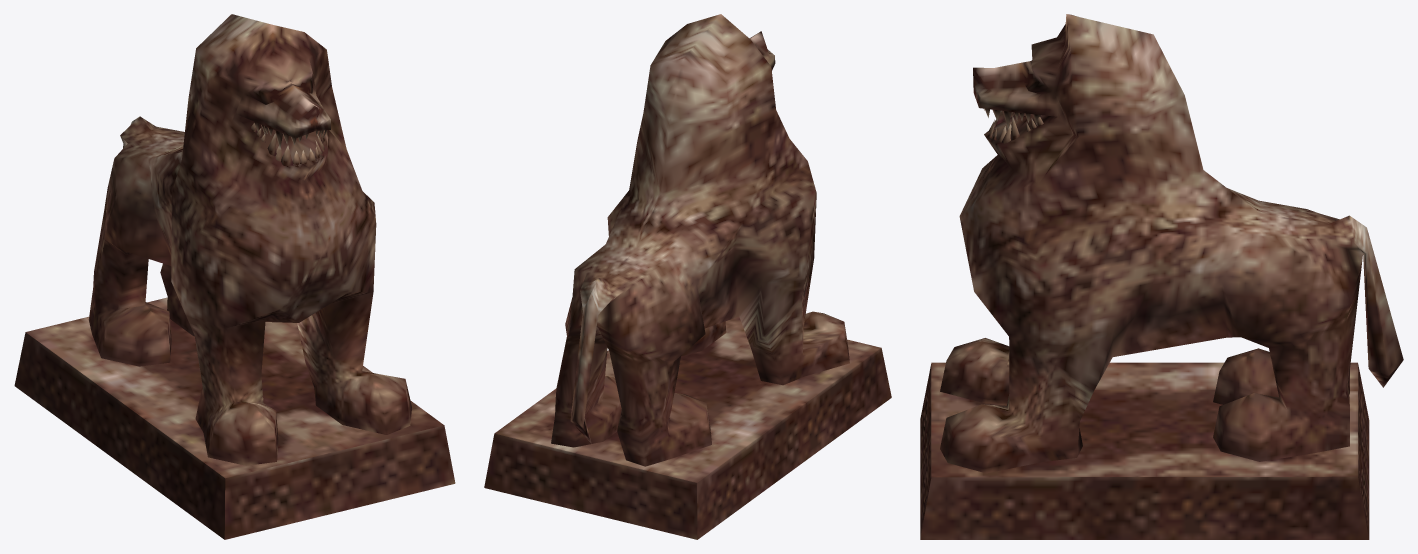
The model's file is general_obj_lionstoneimage.glb.
The picture shows the model from 3 angles, left to right: view 1: azimuth 30°, elevation 25°; view 2: azimuth 150°, elevation 25°; view 3: azimuth 270°, elevation 25°; orthographic projection. The views are drawn at different scales.
Parts seen in each view (by area): view 1: Object19; view 2: Object19; view 3: Object19.
Part boxes in pixels (bbox=[...]): Object19: bbox=[14, 14, 455, 539]; Object19: bbox=[484, 14, 891, 539]; Object19: bbox=[920, 14, 1403, 539].
Size of the model in its own units: 2.77 by 5.01 by 4.71.
Materials: 1 (1 with a texture image).
